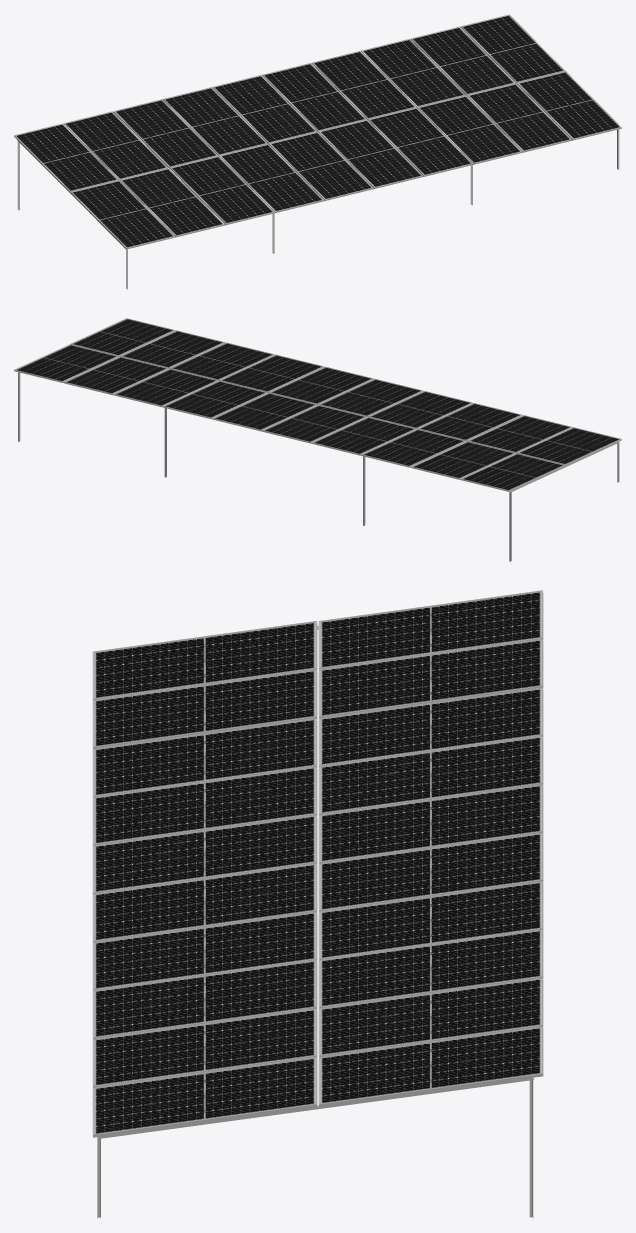
3 renders of one model, top to bottom at view 1: azimuth 30°, elevation 25°; view 2: azimuth 150°, elevation 25°; view 3: azimuth 270°, elevation 25°, orthographic. The views are drawn at different scales.
Parts seen in each view (by area): view 1: 10KW SOLARPANEL; view 2: 10KW SOLARPANEL; view 3: 10KW SOLARPANEL.
Boxes of the visible parts, box(x1,y1,x2,y2) form: 10KW SOLARPANEL: box(14, 14, 621, 289); 10KW SOLARPANEL: box(14, 318, 621, 561); 10KW SOLARPANEL: box(92, 590, 543, 1218).
Size of the model in its own units: 11.52 by 1.63 by 4.53.
Materials: 1 (1 with a texture image).
